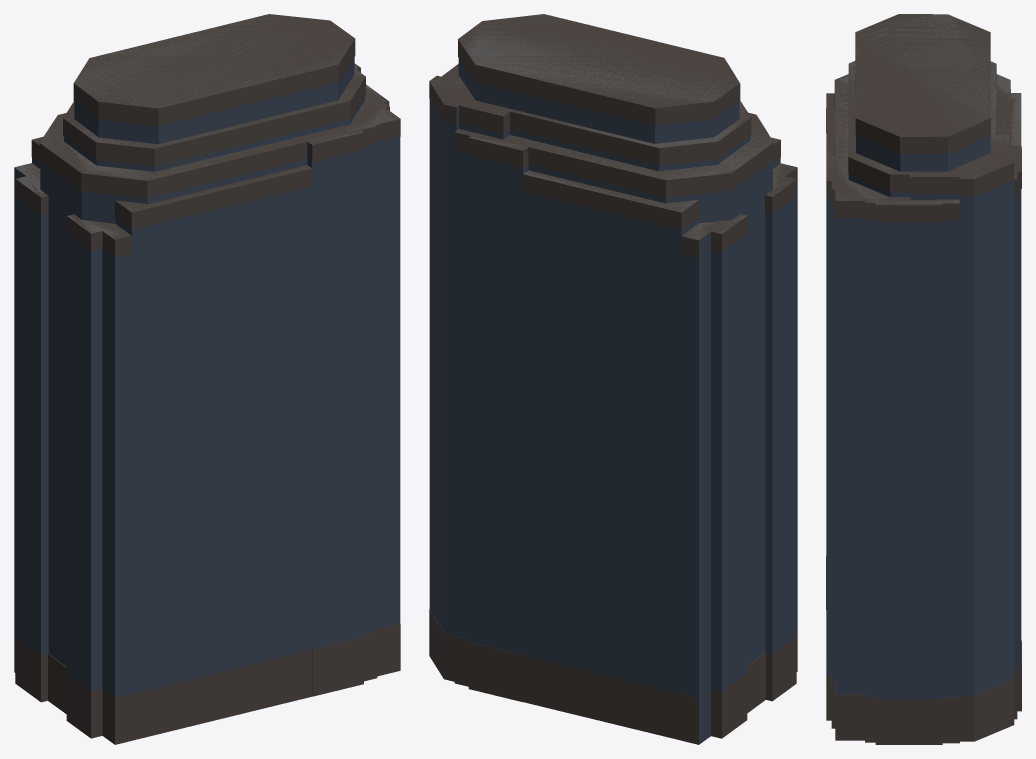
The model's file is beneficial_tower.glb.
3 renders of one model, left to right at view 1: azimuth 30°, elevation 25°; view 2: azimuth 150°, elevation 25°; view 3: azimuth 270°, elevation 25°, orthographic. The views are drawn at different scales.
Parts seen in each view (by area): view 1: Beneficial_Tower; view 2: Beneficial_Tower; view 3: Beneficial_Tower.
Part boxes in pixels (x1,y1,x2,y2): Beneficial_Tower: (14, 14, 400, 744); Beneficial_Tower: (429, 14, 797, 744); Beneficial_Tower: (826, 14, 1021, 744).
Bounding box in the file's own units: 55.55 × 104 × 30.91.
